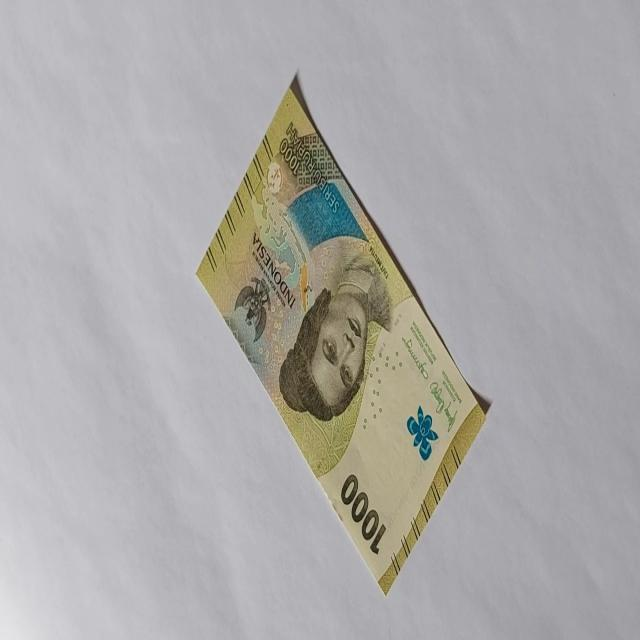seribu rupiah kertas: (195, 71, 488, 596)
